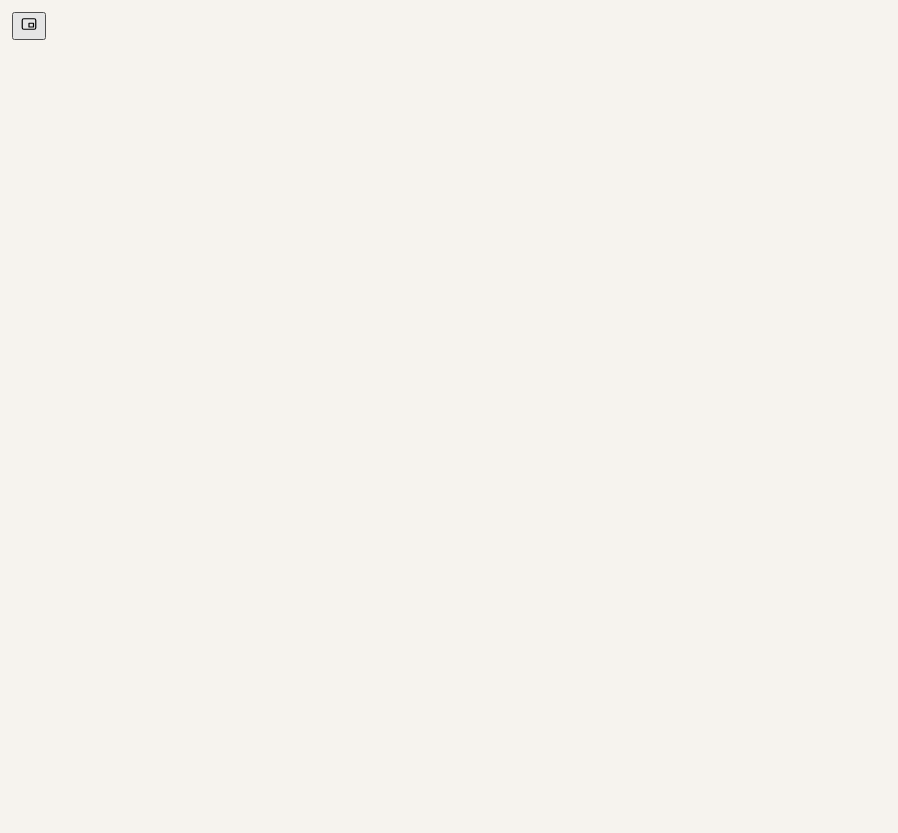
Test: shows a clear unsupported-browser error and does not open an ordinary popup
The width and height of the screenshot is (898, 833).
Click the button named "悬浮歌词". click: (29, 26)
box: [12,12,46,40]
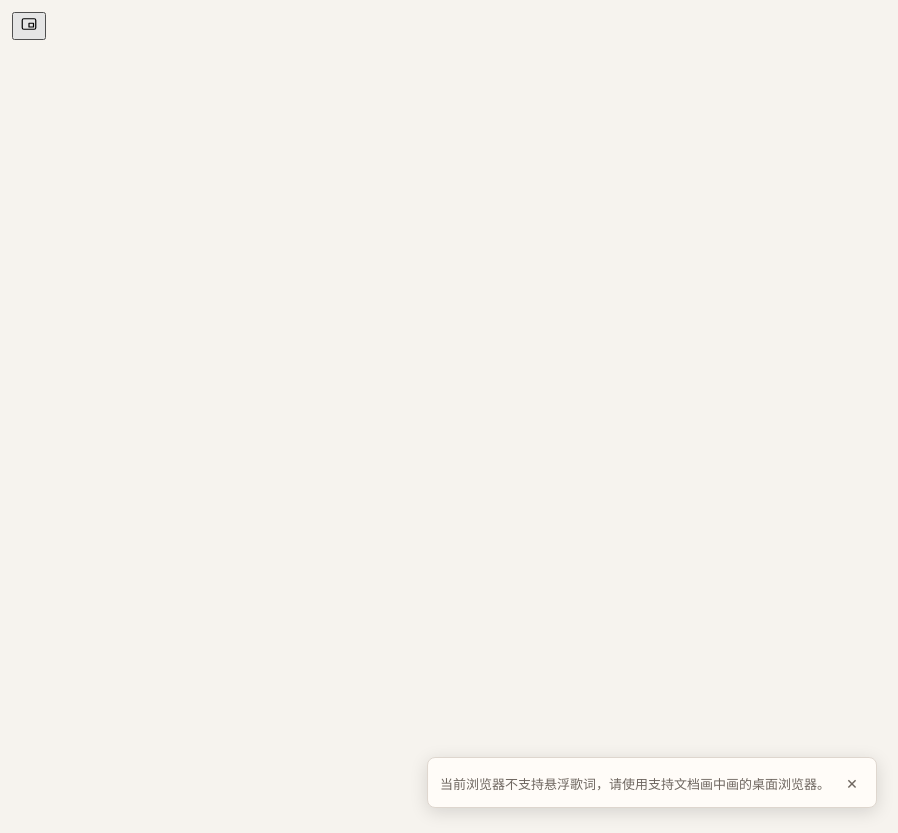
expect the message shows "当前浏览器不支持": met, box [440,776,830,792]
Click the button named "关闭悬浮歌词提示". click: (852, 782)
box: [840,768,864,797]
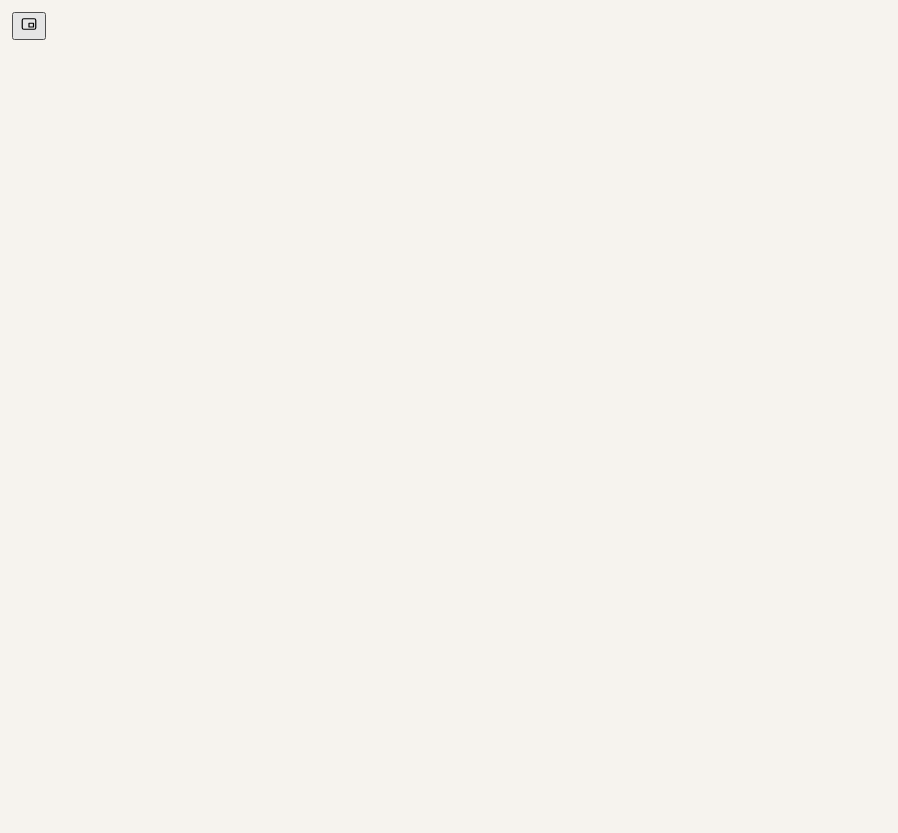
expect the message "当前浏览器不支持悬浮歌词，请使用支持文档画中画的桌面浏览器。 ×" is gone: met
